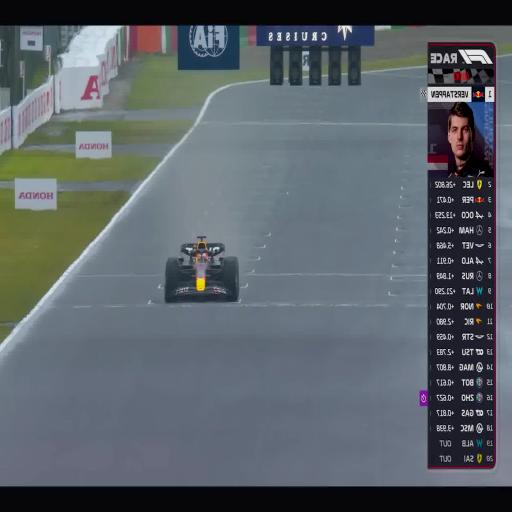f1_car: (165, 236, 240, 302)
